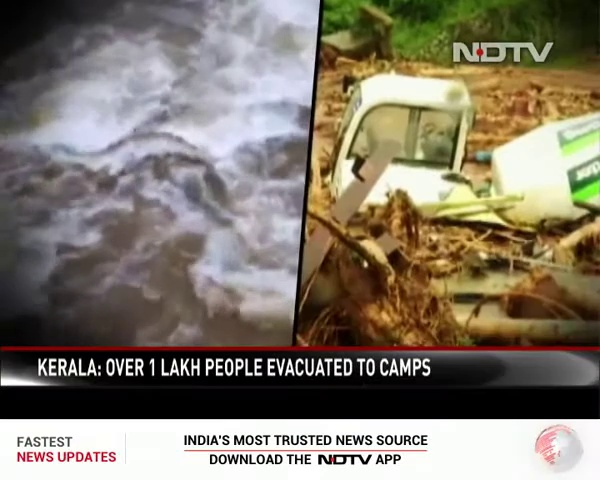vehicle: (341, 91, 600, 217), (451, 290, 598, 345)
